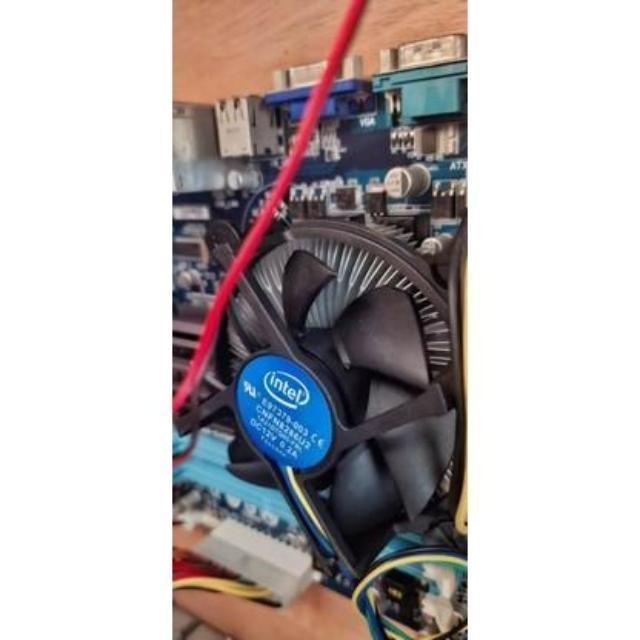CPU_Fan: (199, 208, 467, 552)
